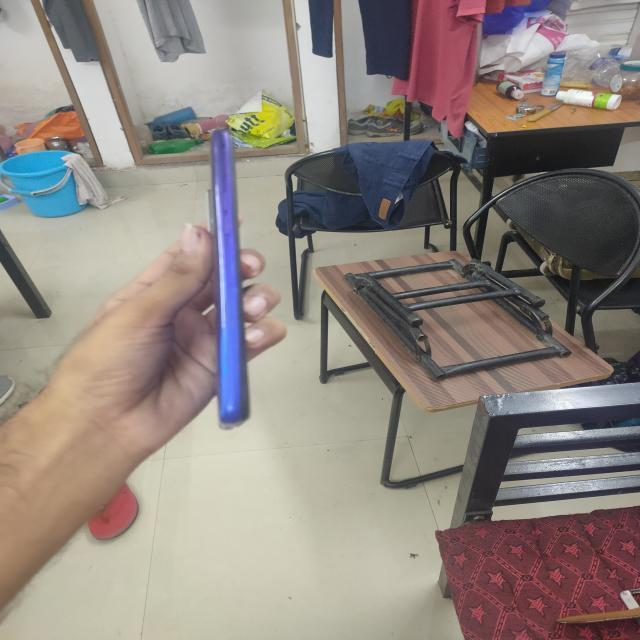Phone: (203, 126, 262, 435)
